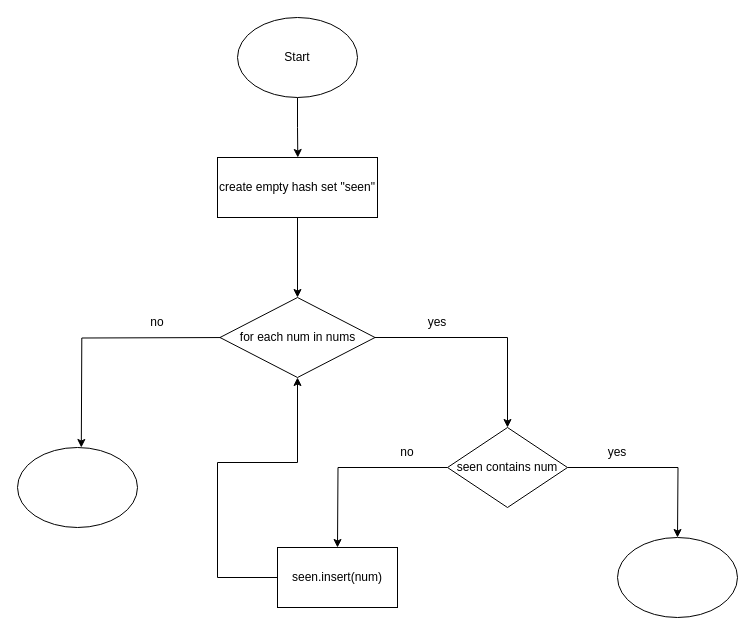
Image size: 755x635. Some labels were removed from this diagram. The box of each missing label's shape, as (x1, y1, x2, y2) in pixels:
Return false: (16, 446, 138, 528)
Return true: (616, 536, 738, 618)
